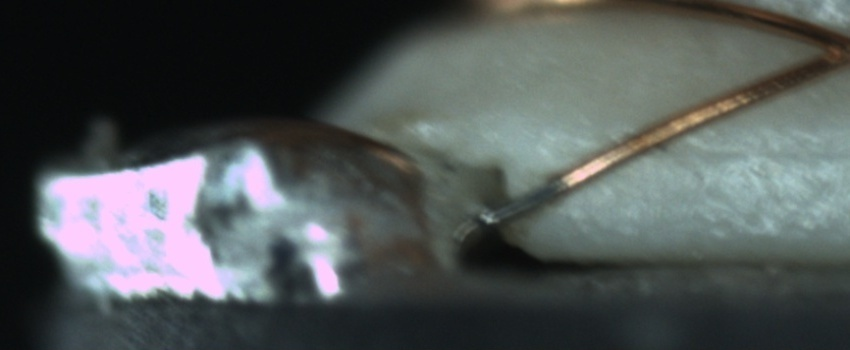CL: (800, 14, 850, 79)
DL: (667, 121, 850, 185)
TS: (470, 176, 568, 230)
